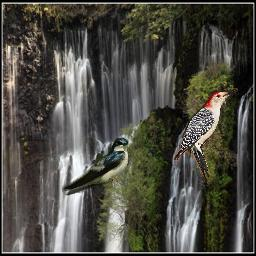Swallow: (62, 137, 129, 196)
Woodpecker: (173, 88, 238, 181)
